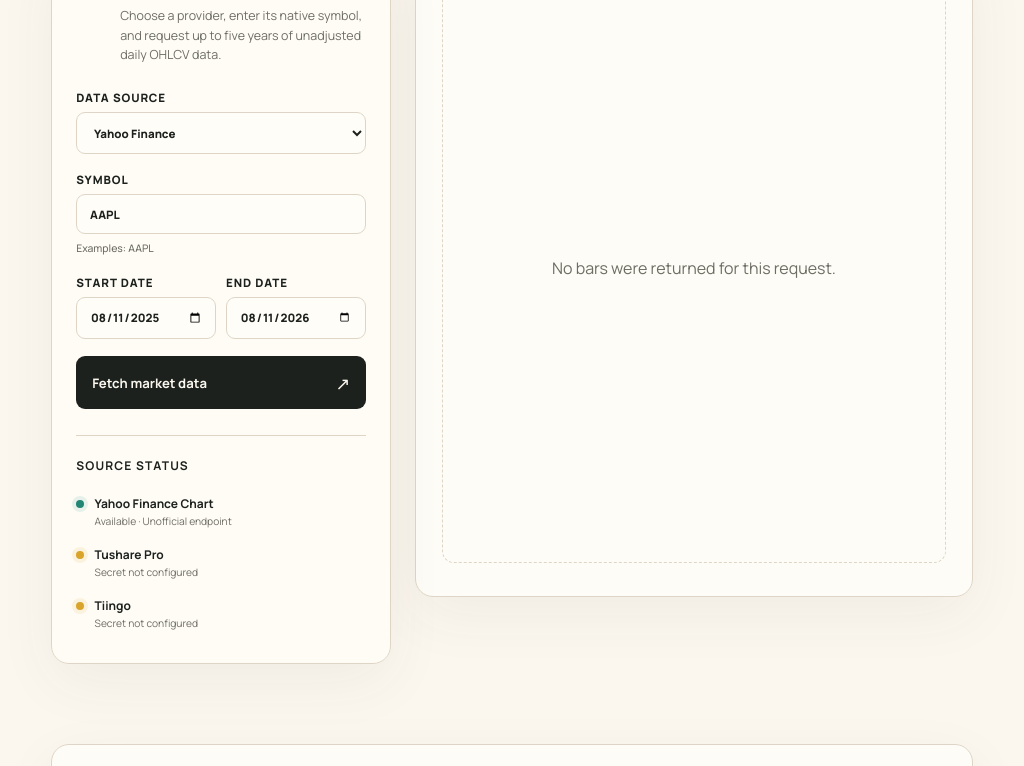
Scenario: bilingual dashboard › announces a stable API error
(page scrolled)
Expected: the text "Yahoo Finance Chart" is shown, [95, 495, 232, 512]
Click the button "Fetch market data ↗": (150, 383) [76, 356, 366, 409]
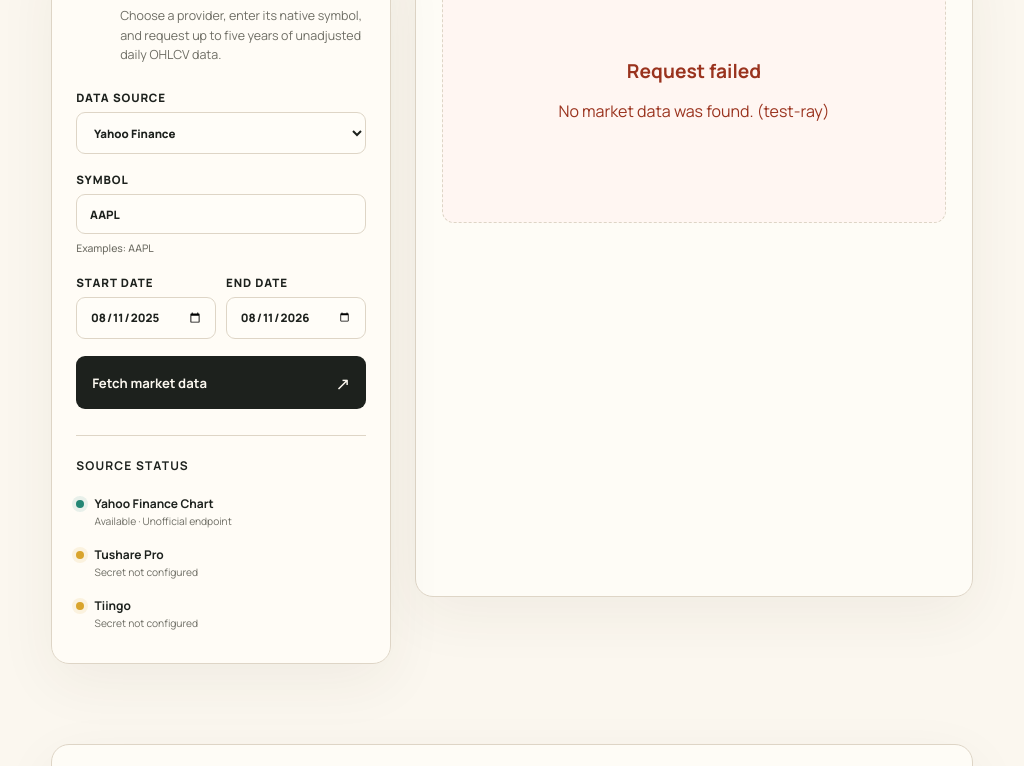
Result: the text "No market data was found. (test-ray)" is shown at [558, 100, 830, 122]
